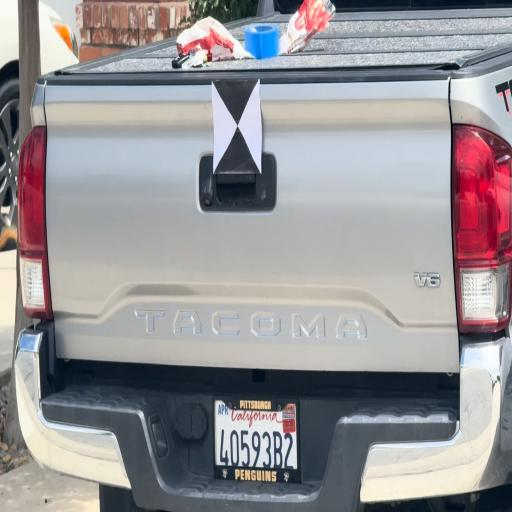target: (214, 78, 260, 172)
